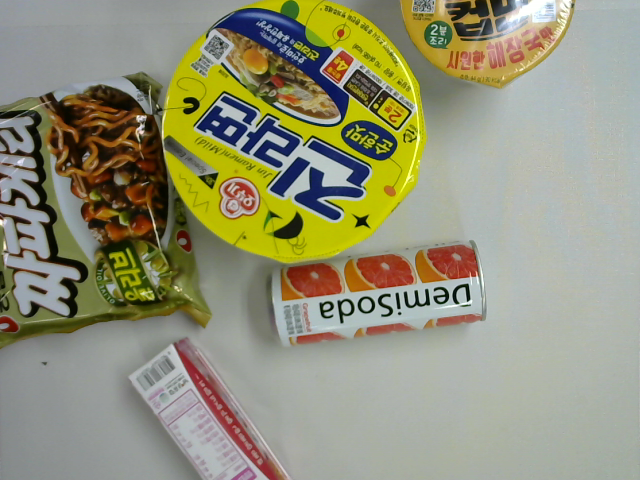Demisoda_Grapefruit_Can_250ml: (266, 236, 490, 355)
Hejangmini: (399, 1, 582, 93)
Jinlamyeon_Mild_Taste_Large_Cup: (156, 1, 428, 268)
Olive_Chapaghetti: (1, 66, 213, 348)
Strawberry_E_Mong: (129, 336, 291, 480)
